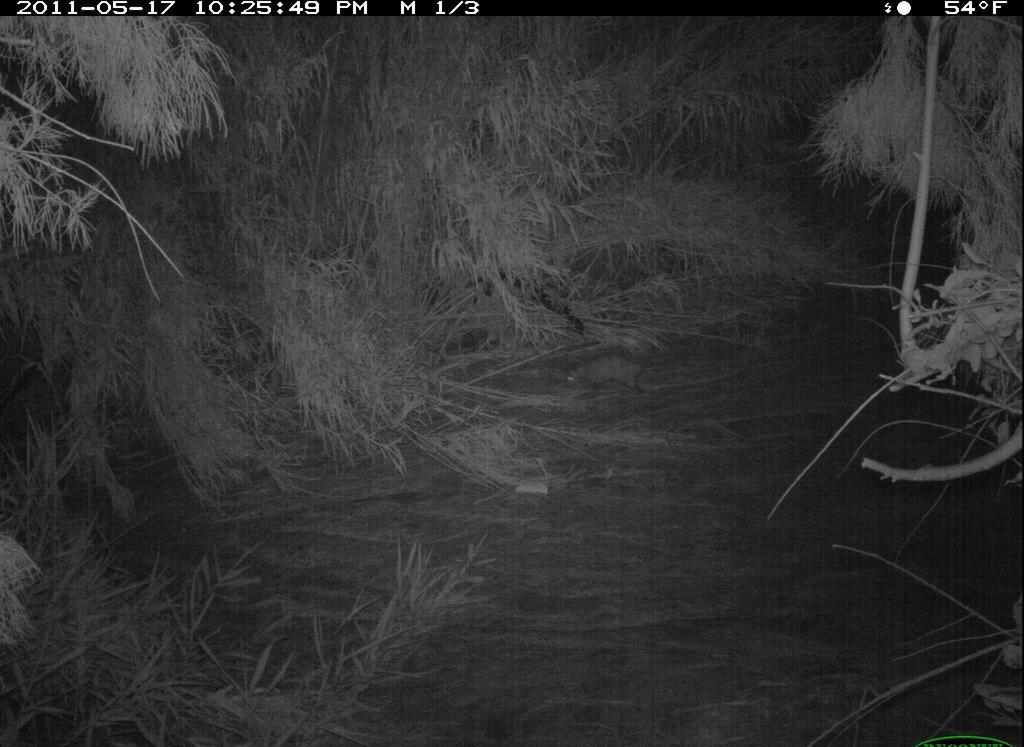opossum: (561, 347, 670, 404)
